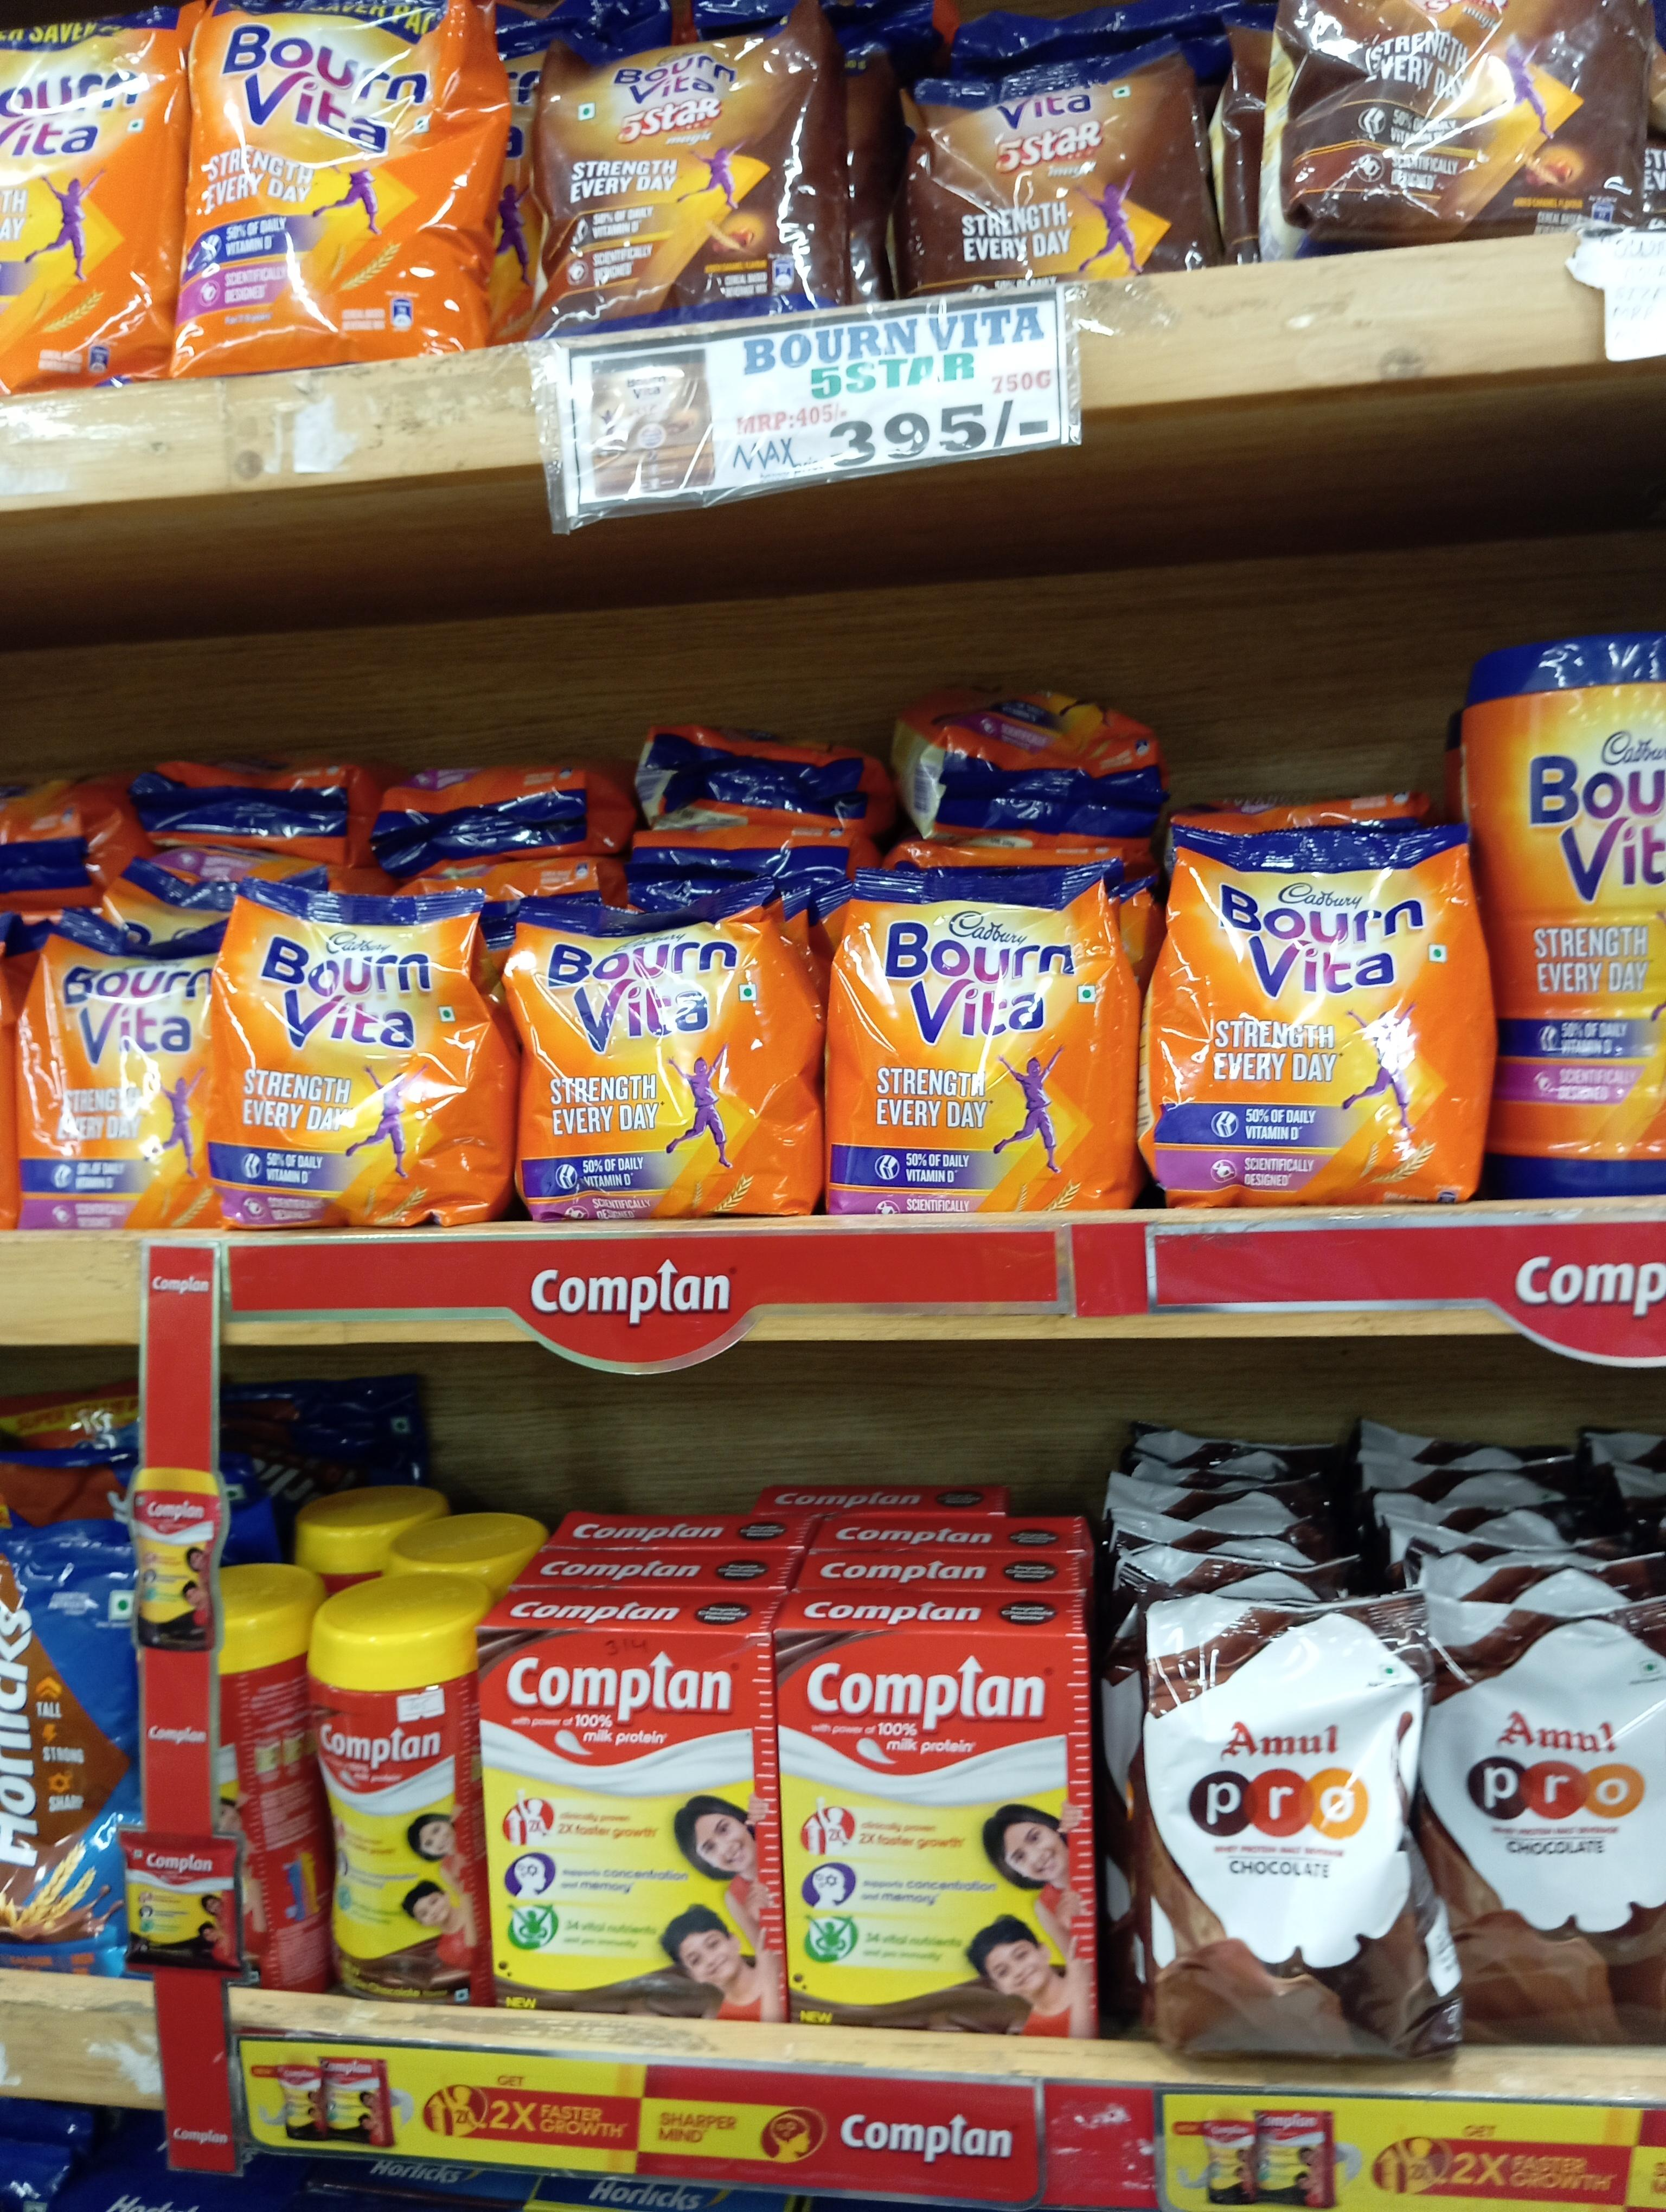BOURN_VITA_1_KG_JAR: (1503, 628, 1666, 1193)
BOURN_VITA_1_KG_POUCH: (191, 0, 494, 364), (0, 7, 168, 378)
BOURN_VITA_500_G_POUCH: (1146, 815, 1491, 1208), (830, 855, 1132, 1214), (513, 892, 816, 1215), (219, 873, 502, 1215), (19, 922, 208, 1229)
BOURN_VITA_FIVE_STAR_MAGIC_500_G_POUCH: (529, 3, 840, 325), (898, 61, 1209, 285)
COMPLAN_CHOCOLATE_500_GMS_JAR: (310, 1595, 480, 2014)
COMPLAN_CHOCOLATE_500_GMS_PACK: (796, 1626, 1102, 2046), (494, 1626, 782, 2018)
